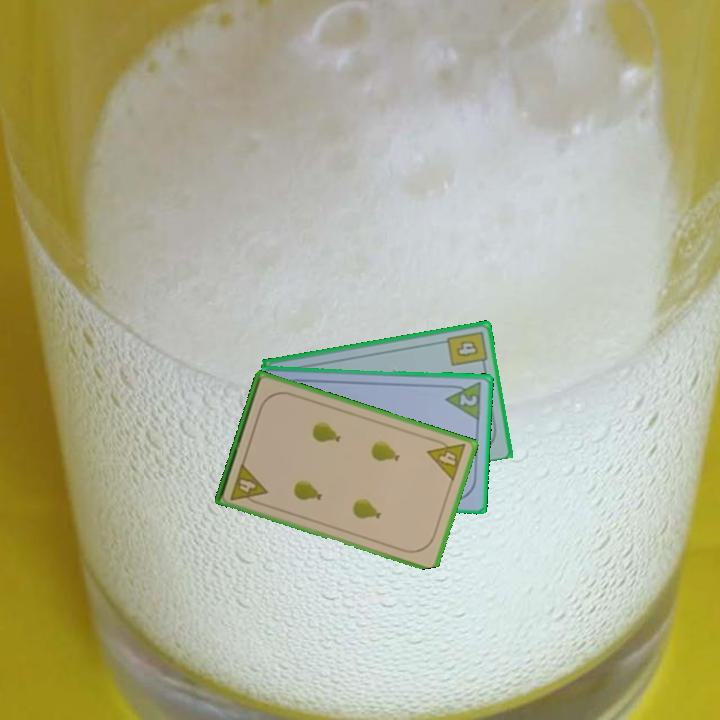2p: (443, 378, 485, 422)
4b: (443, 328, 490, 370)
4p: (424, 434, 469, 484), (227, 459, 270, 508)
